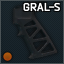AR-15 Naroh Arms GRAL-S pistol grip: (0, 0, 64, 64)
